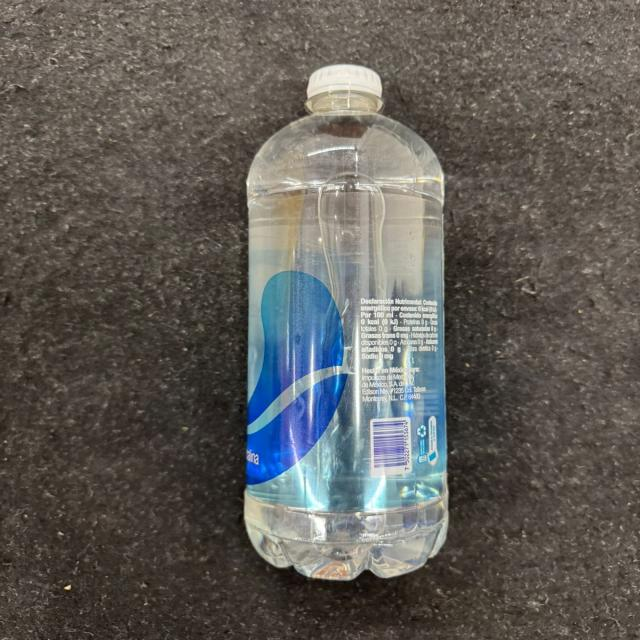AGUA ALCALINA VITAWA 1LT: (248, 66, 451, 579)
